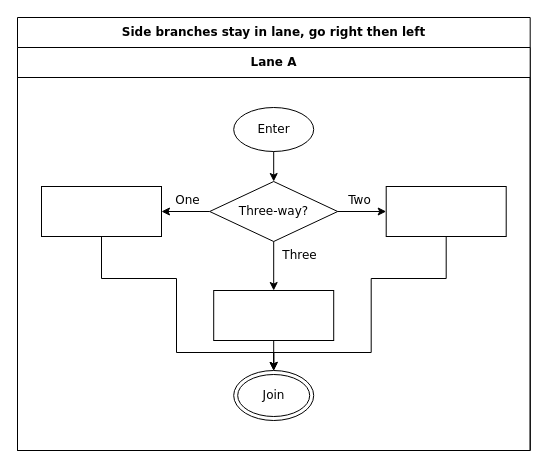
Image size: 548x468. Some labels were removed from this diagram. The shapes that lost their labels are listed below. From the top down, each one's centre as x and y in pixels, then its label:
the point at 101,211: Task one
the point at 445,211: Task two
the point at 273,315: Task three
